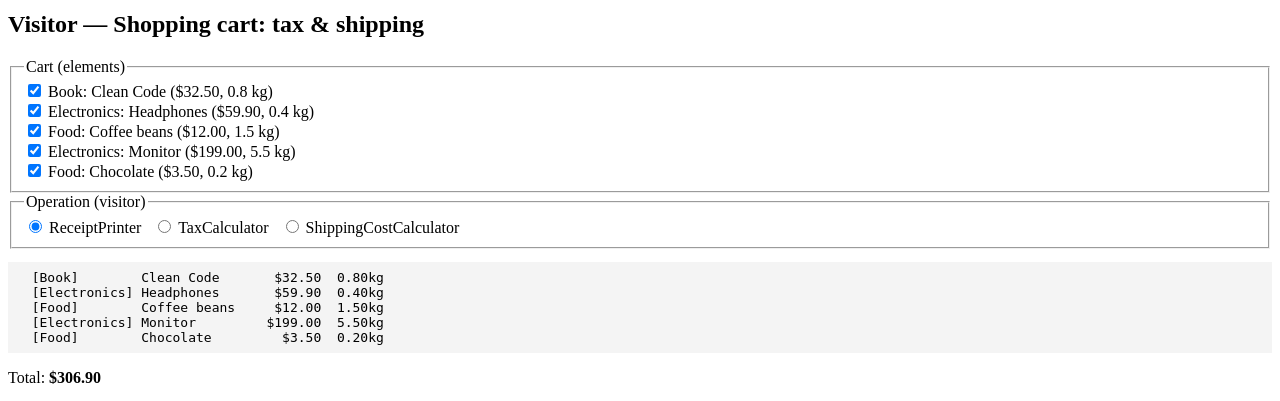
<VisitorDemo /> › recomputes the result when the user removes an item from the cart
Click the checkbox labelled "Electronics: Monitor ($199.00, 5.5 kg)".
click(34, 151)  # box [28,144,41,157]
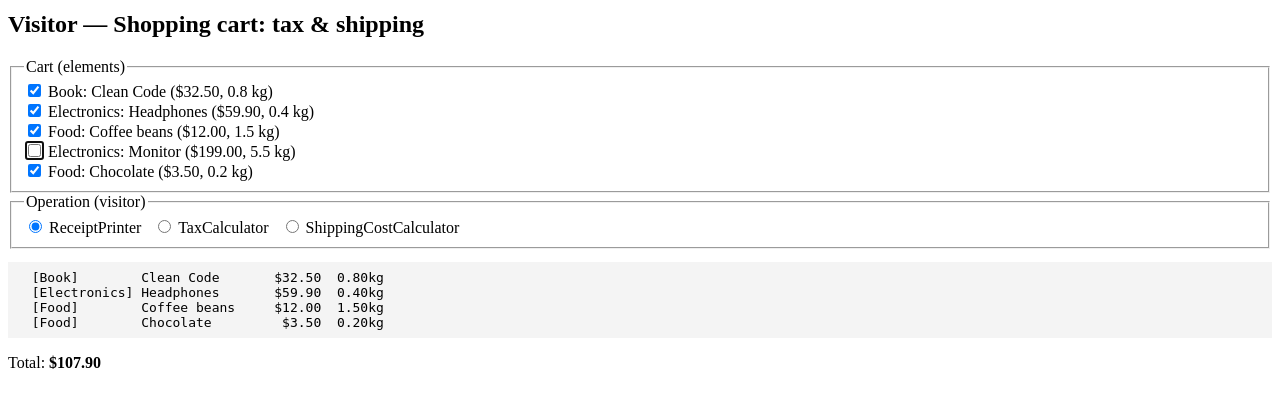
Check: the text "$107.90" is shown, box [49,354,101,371]
Check: the text "[Electronics] Monitor" is gone
